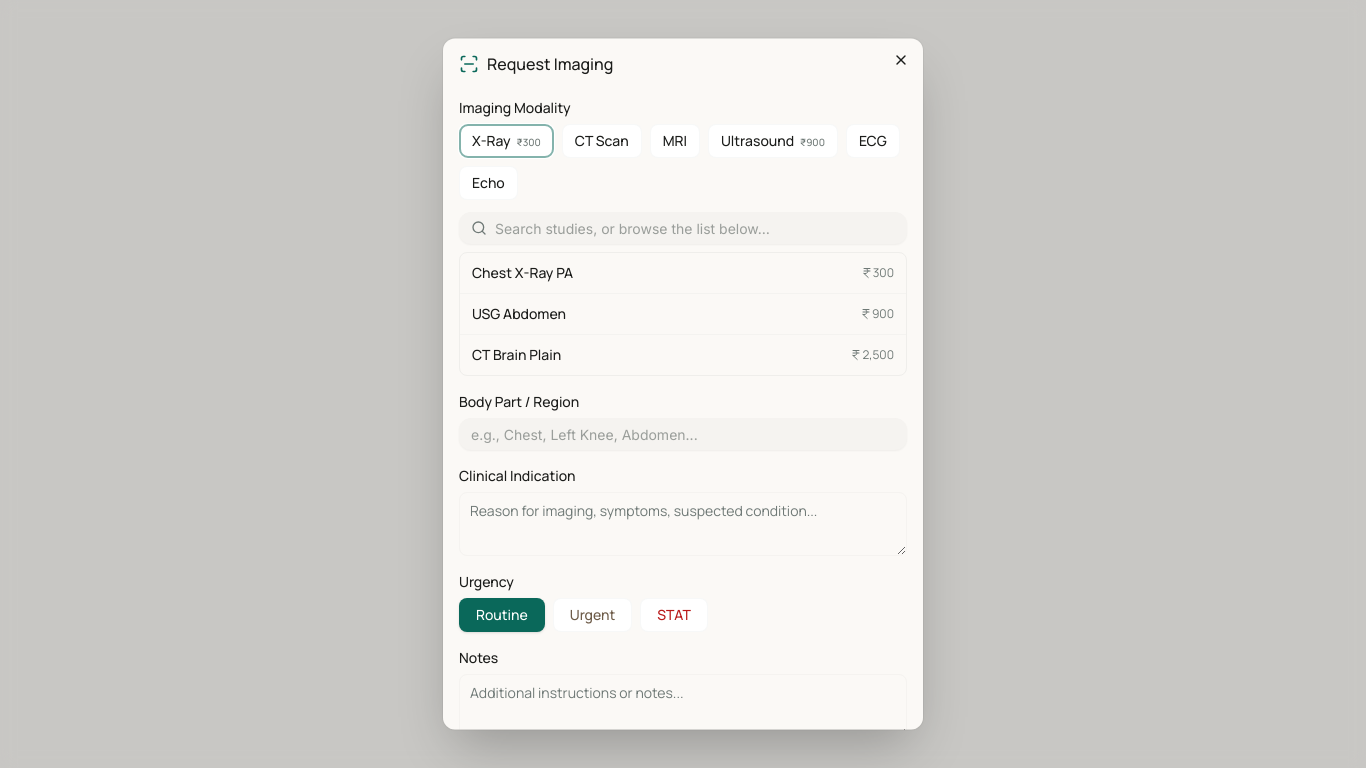
the imaging study picker › distinguishes no match from an empty catalog
This screenshot has width=1366, height=768.
In the field with placeholder "Search studies, or browse the list below…": (683, 228) [459,212,907,244], type "zzz"
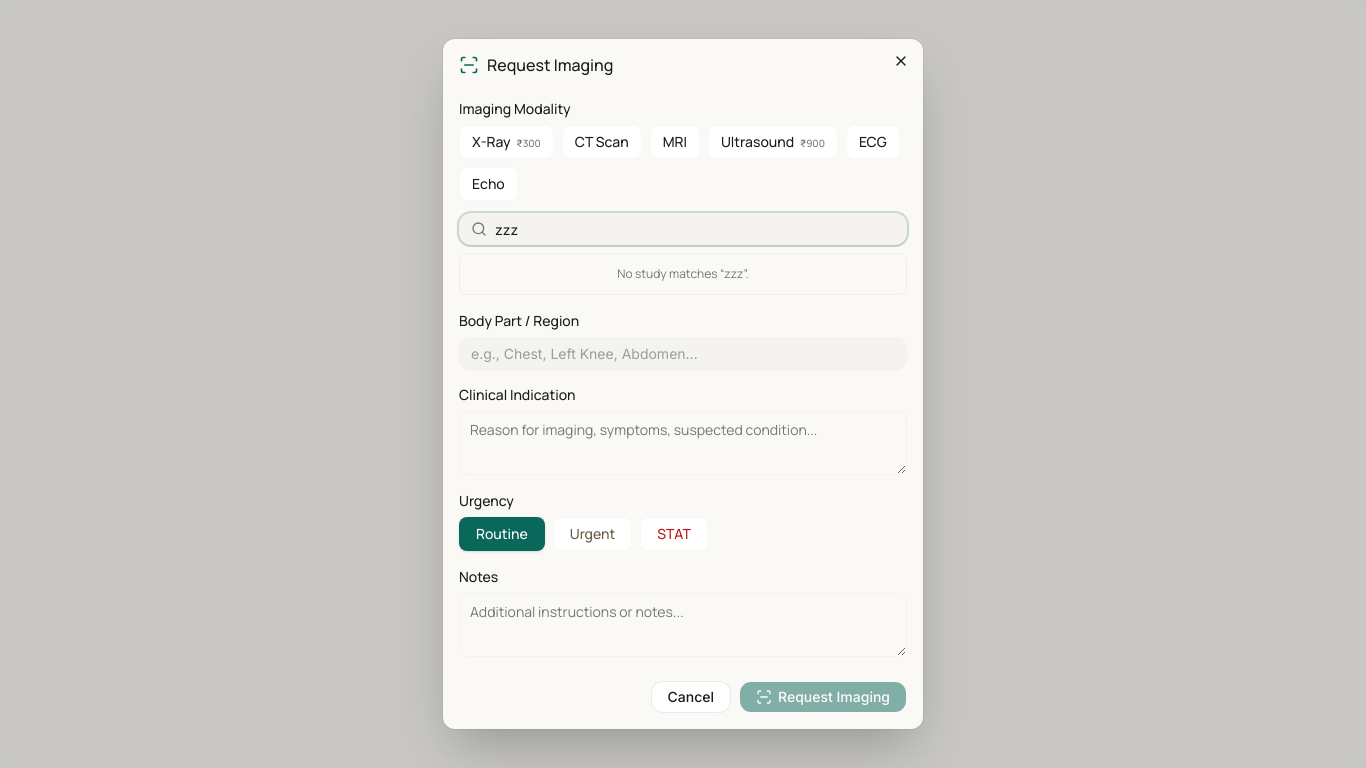
expect the text "No study matches “zzz”." is shown: met, box [617,265,749,282]
